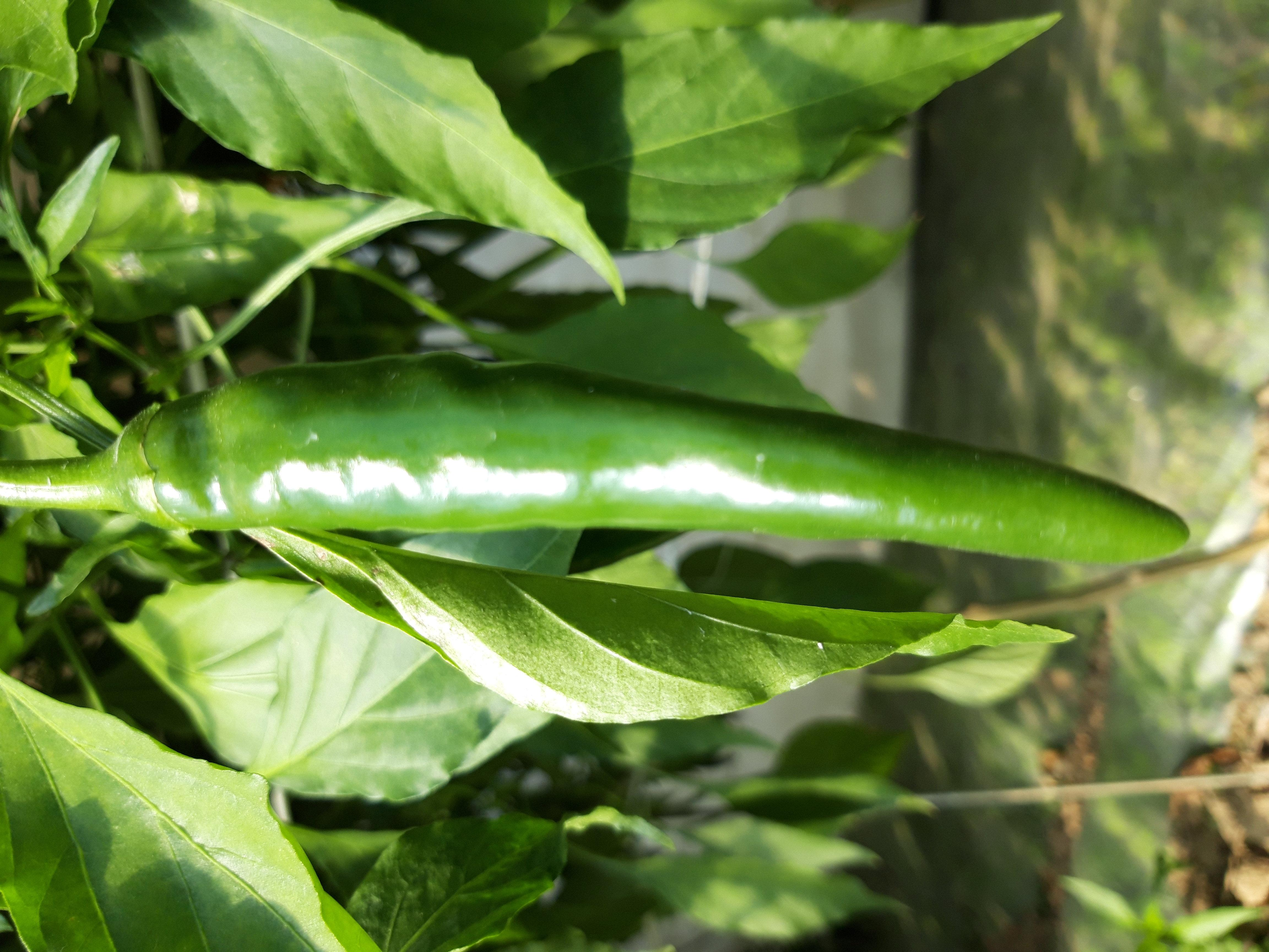Buah Cabai Sehat: (2, 348, 1192, 570)
